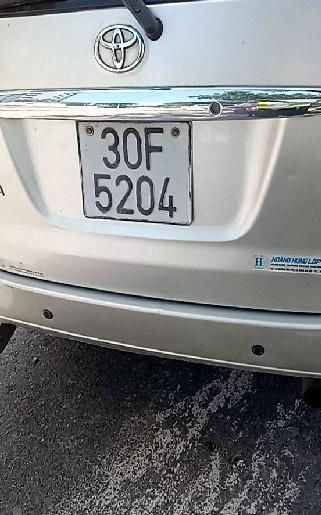Plate-iWeP: (73, 113, 199, 226)
